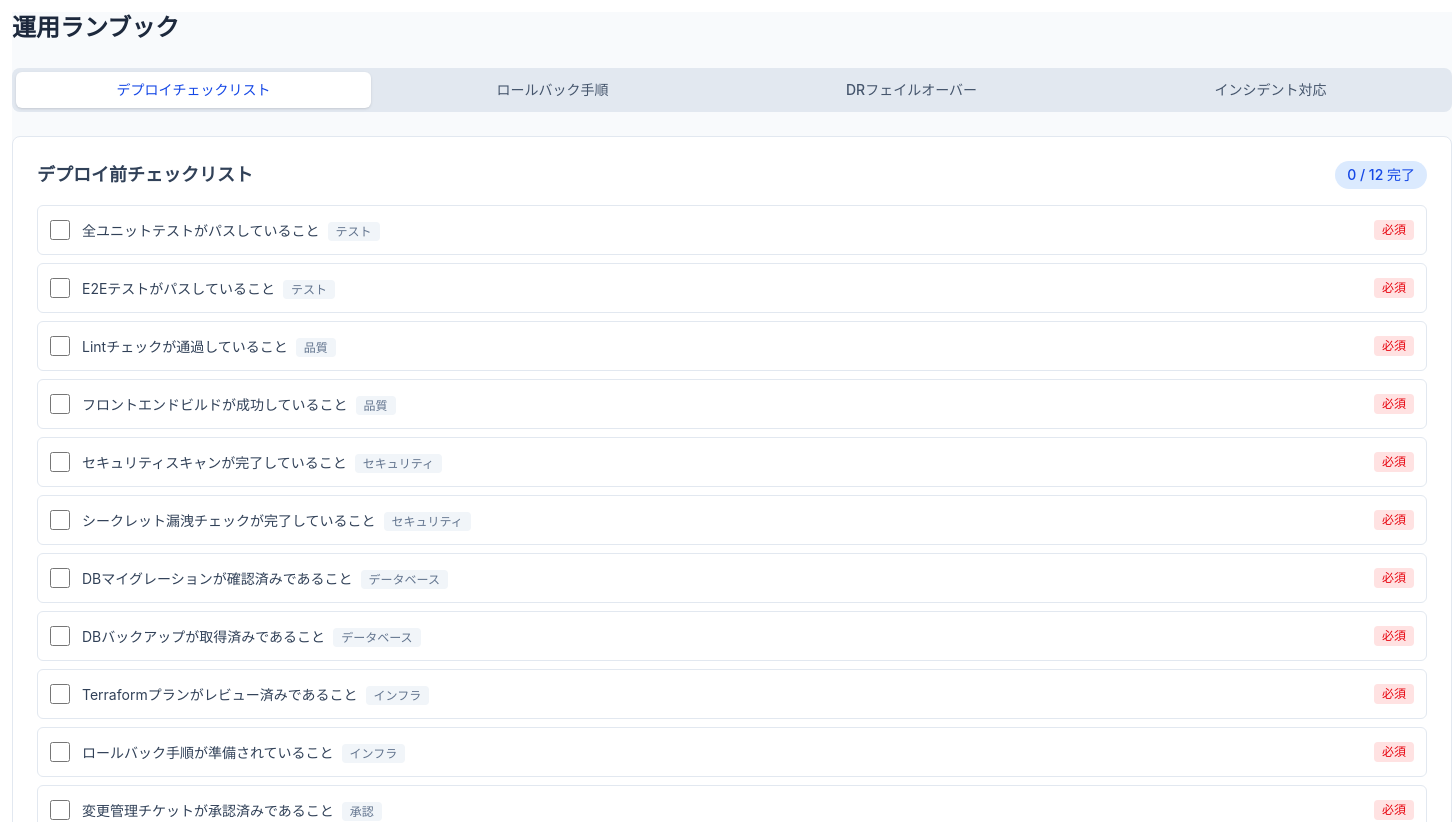
Scenario: RunbookPage incident tab › switches to ransomware playbook when selected
Click the button "インシデント対応" at {"x": 1270, "y": 90}, box [1093,72,1448,108]
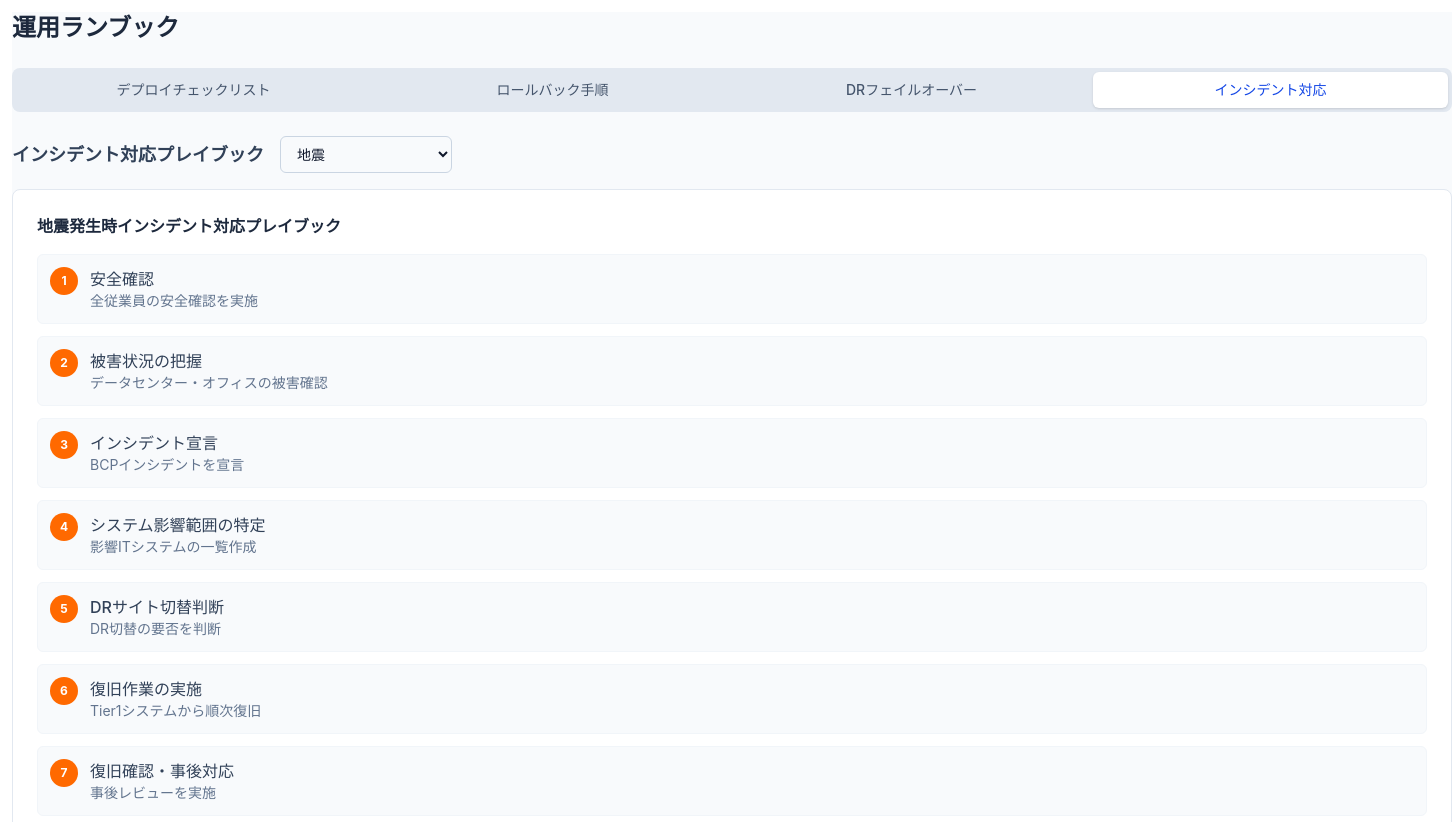
Select "ランサムウェア" in the dropdown at {"x": 366, "y": 154}, box [280,136,452,173]
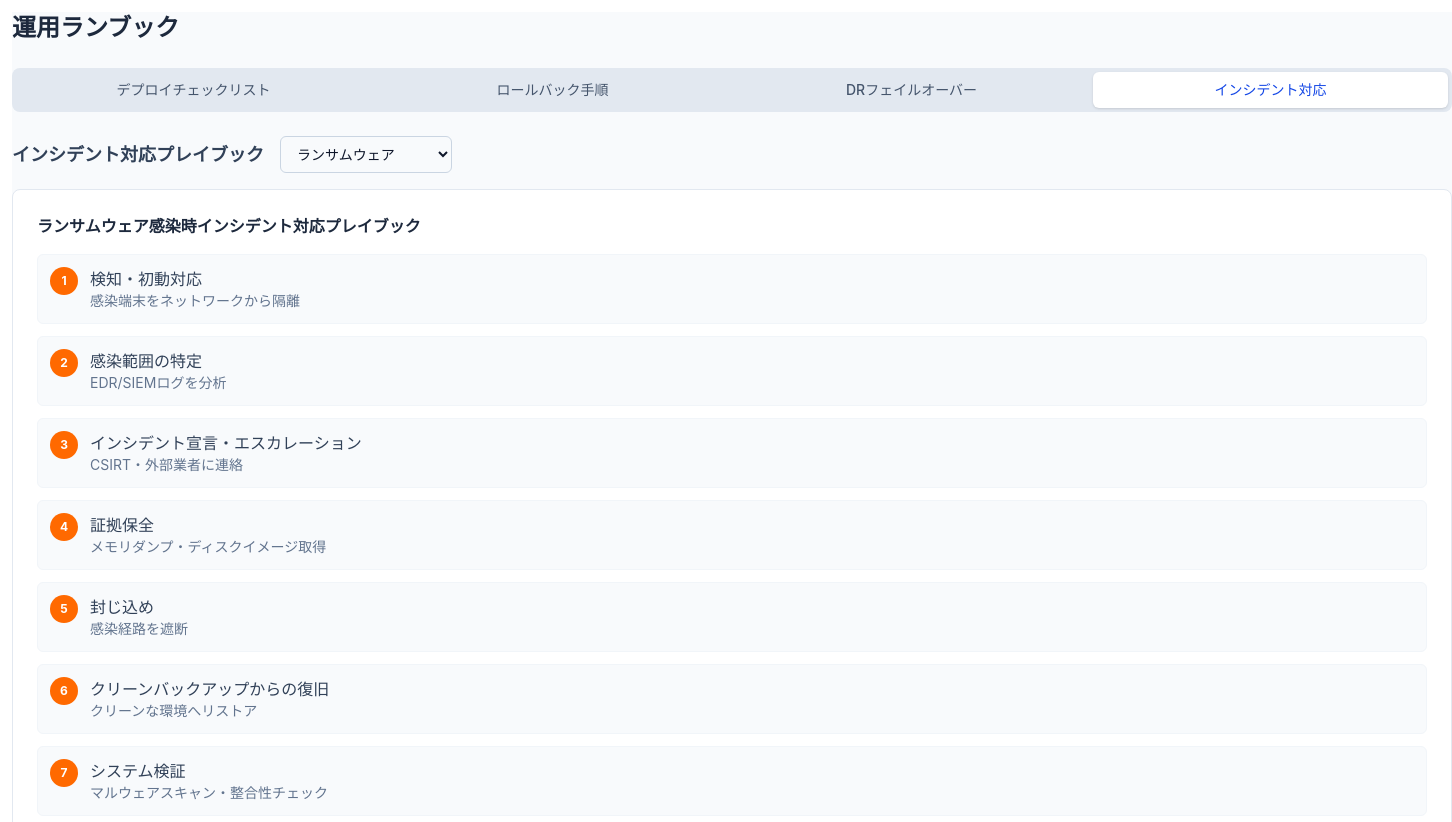
Check: the heading "ランサムウェア感染時インシデント対応プレイブック" is shown, box [37,216,421,236]
Check: the text "検知・初動対応" is shown, box [90,269,202,289]
Check: the text "証拠保全" is shown, box [90,515,154,535]
